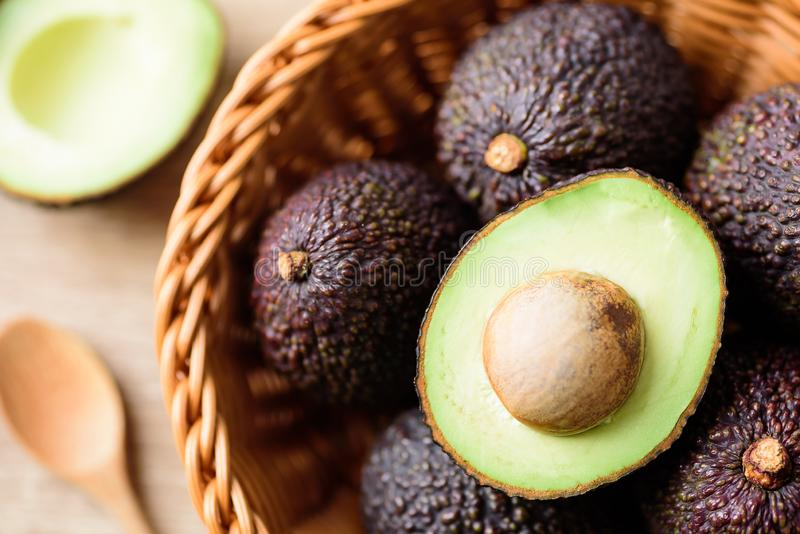fit_avocado: (231, 141, 478, 401), (398, 1, 698, 197), (644, 361, 793, 534), (684, 75, 800, 286)
